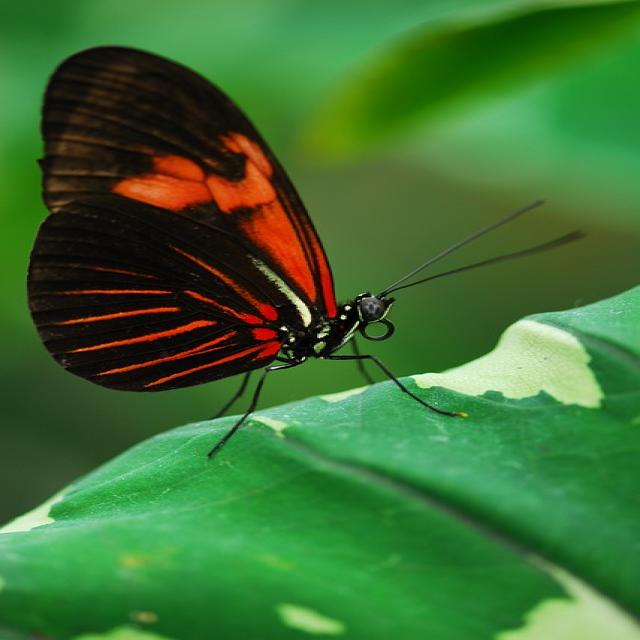butterfly: (25, 46, 586, 399)
